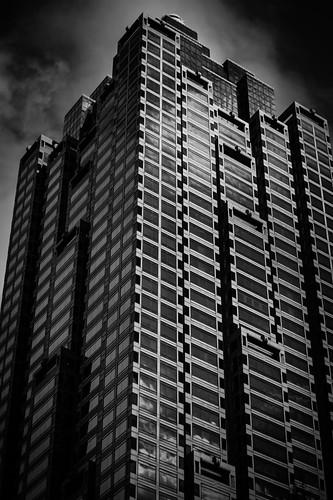building: (2, 11, 333, 500)
